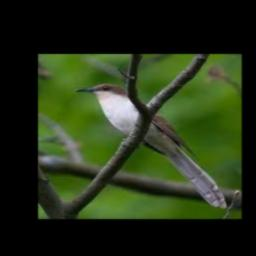Cuckoo: (75, 83, 226, 208)
